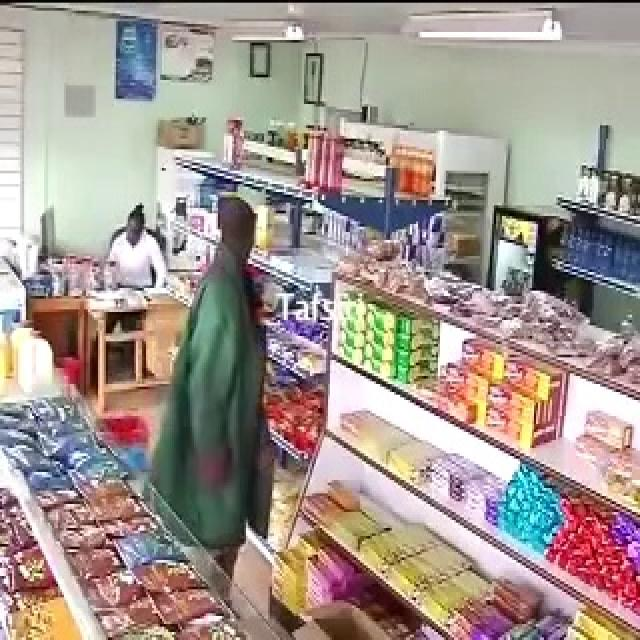normal: (138, 185, 305, 548), (108, 192, 153, 280)
